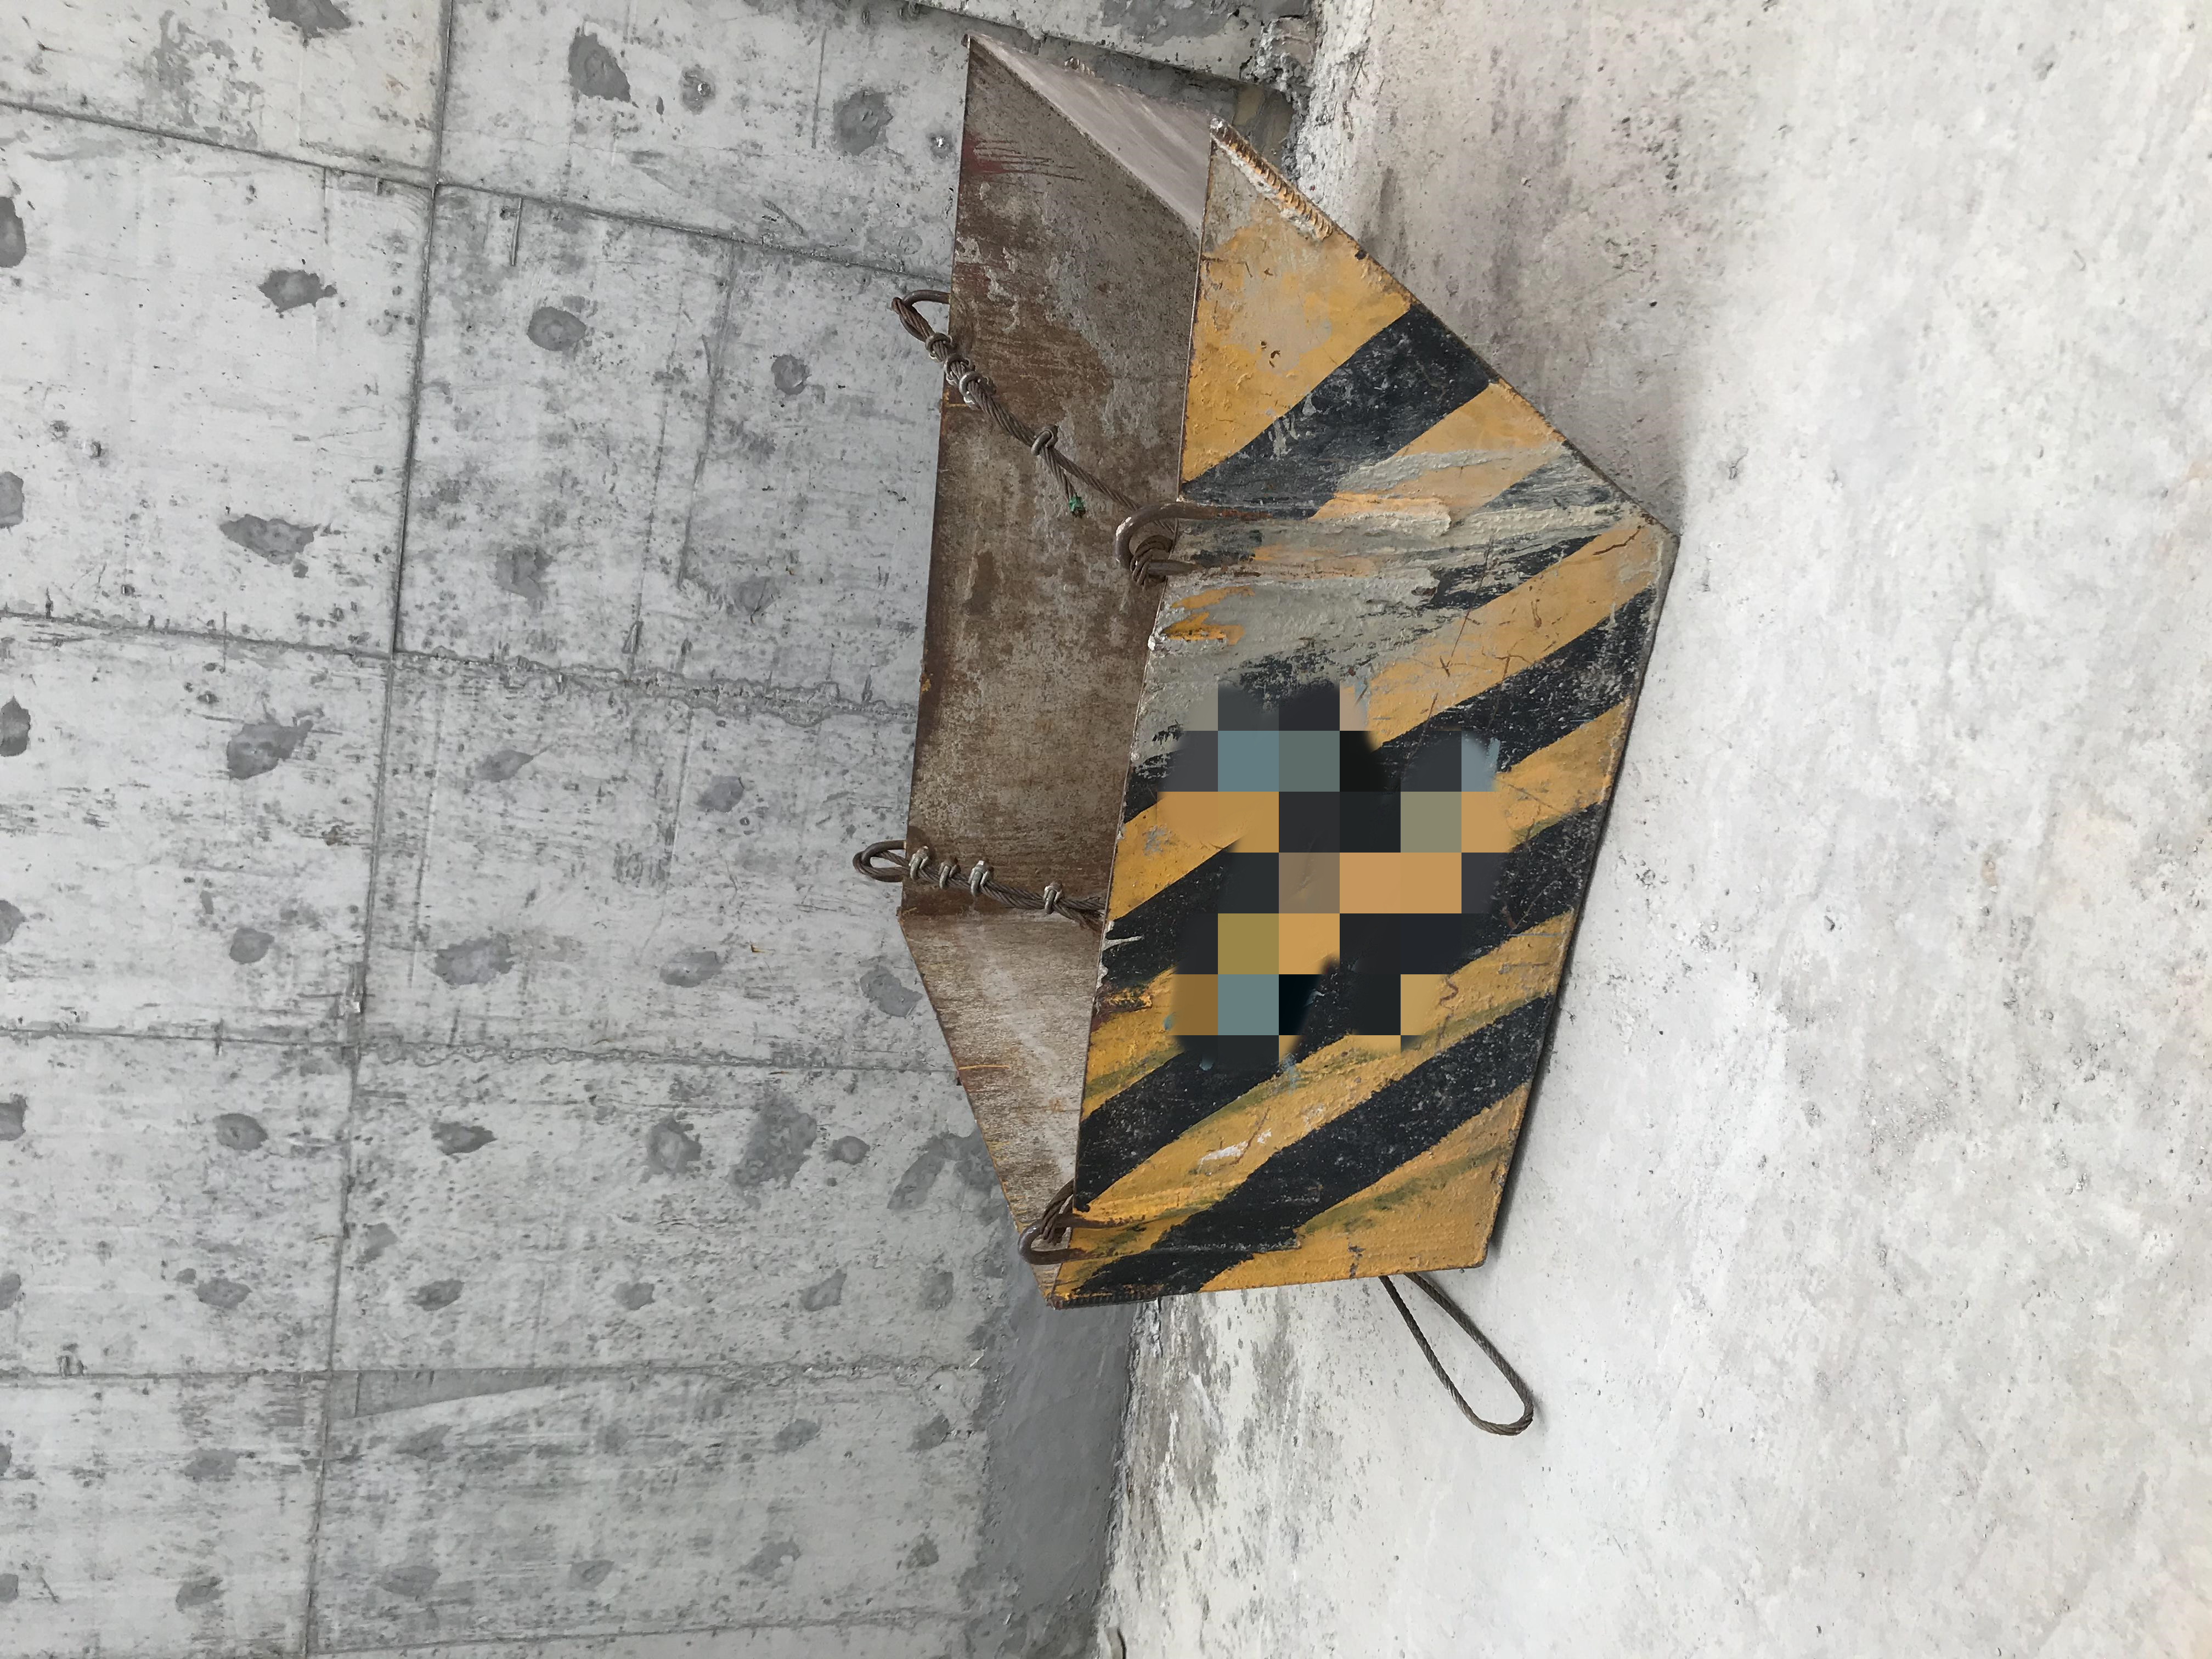hopper: (876, 21, 1698, 1328)
